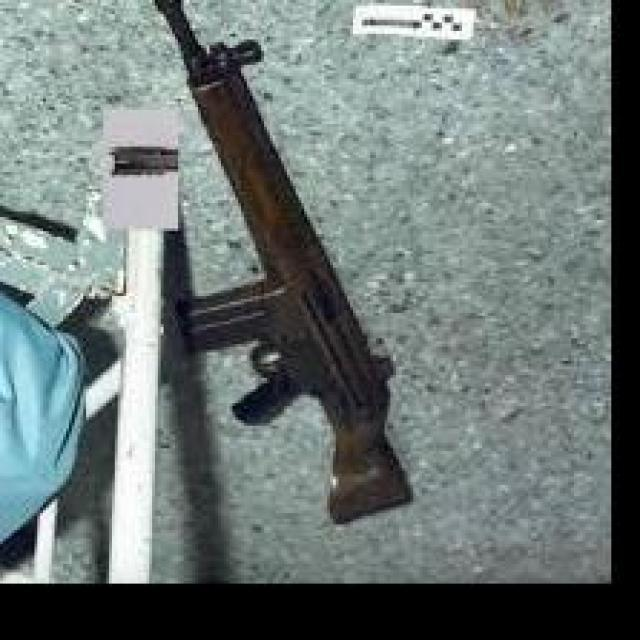weapon: (150, 0, 417, 526)
